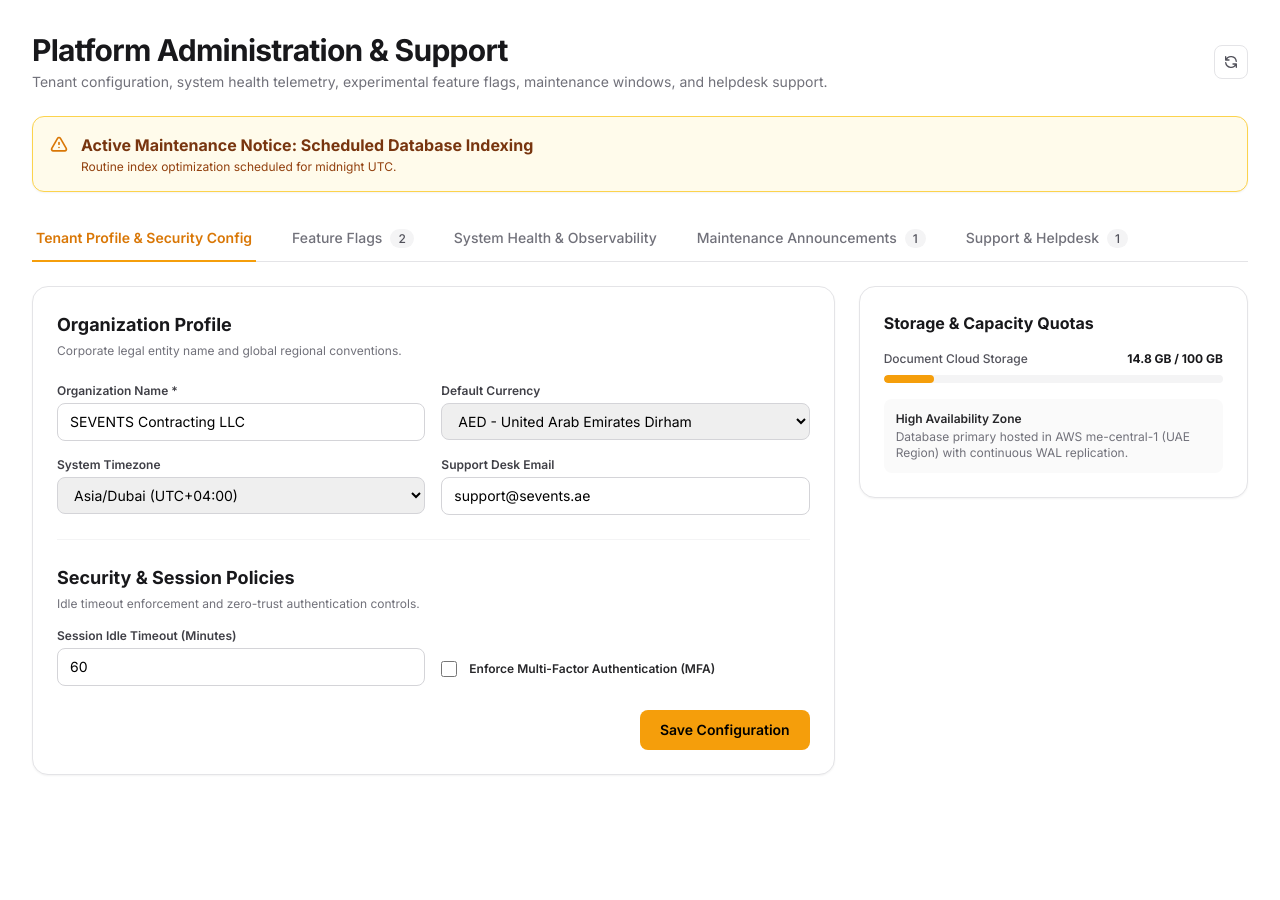
Test: PlatformAdminPage (M36: Platform Administration & Support) › switches to Support & Helpdesk tab and displays tickets
Expected: the heading "Platform Administration & Support" is shown, [32,32,508,68]
Click the button "Support & Helpdesk1": [1047, 239] box [962,216,1132,262]
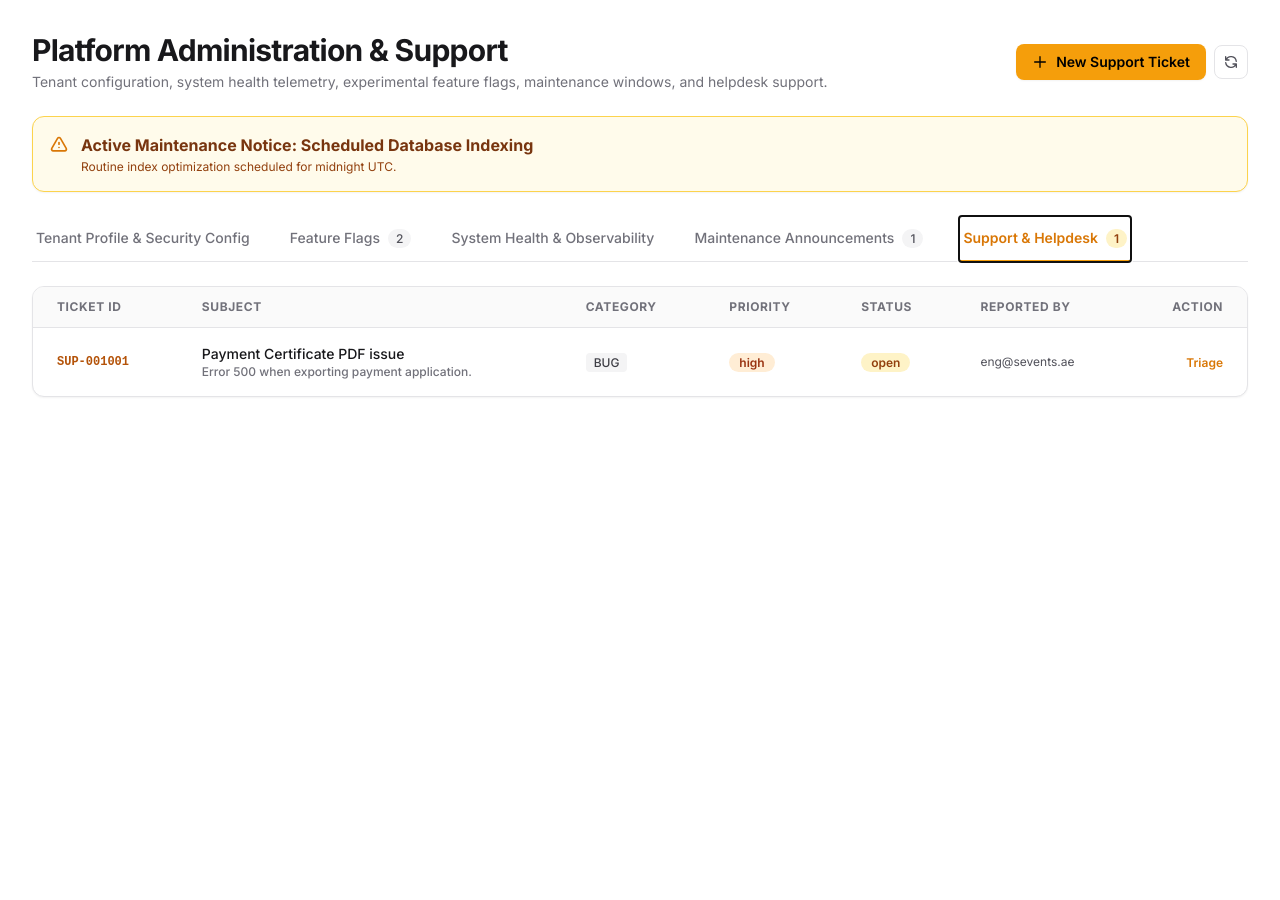
Now the text "SUP-001001" is shown, box [33,328,178,396]
Now the text "Payment Certificate PDF issue" is shown, box [202,345,404,362]
Now the text "eng@sevents.ae" is shown, box [956,328,1128,396]
